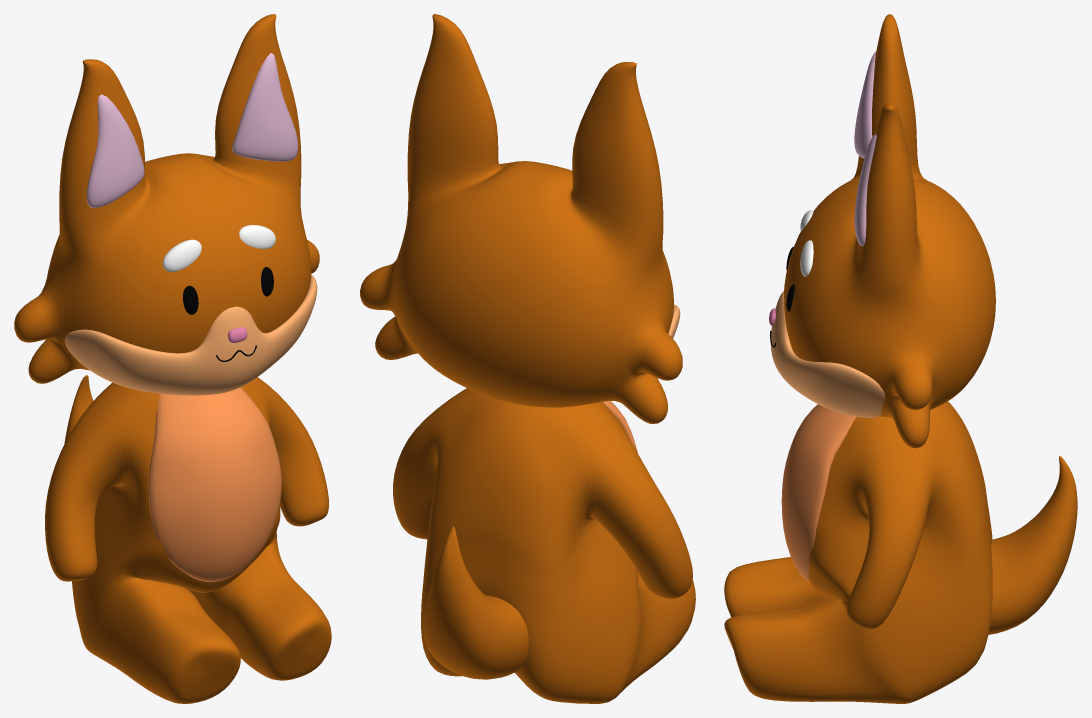
File: PickUp.fbx
3 views of the same model, side by side, from view 1: azimuth 30°, elevation 25°; view 2: azimuth 150°, elevation 25°; view 3: azimuth 270°, elevation 25° (orthographic). The views are drawn at different scales.
Visible parts, largest first — view 1: NurbsPath; view 2: NurbsPath; view 3: NurbsPath.
Boxes of the visible parts, x1,y1,x2,y2 form: NurbsPath: (14,14,331,703); NurbsPath: (360,14,695,703); NurbsPath: (724,14,1077,703).
Bounding box in the file's own units: 231 × 447 × 234.
